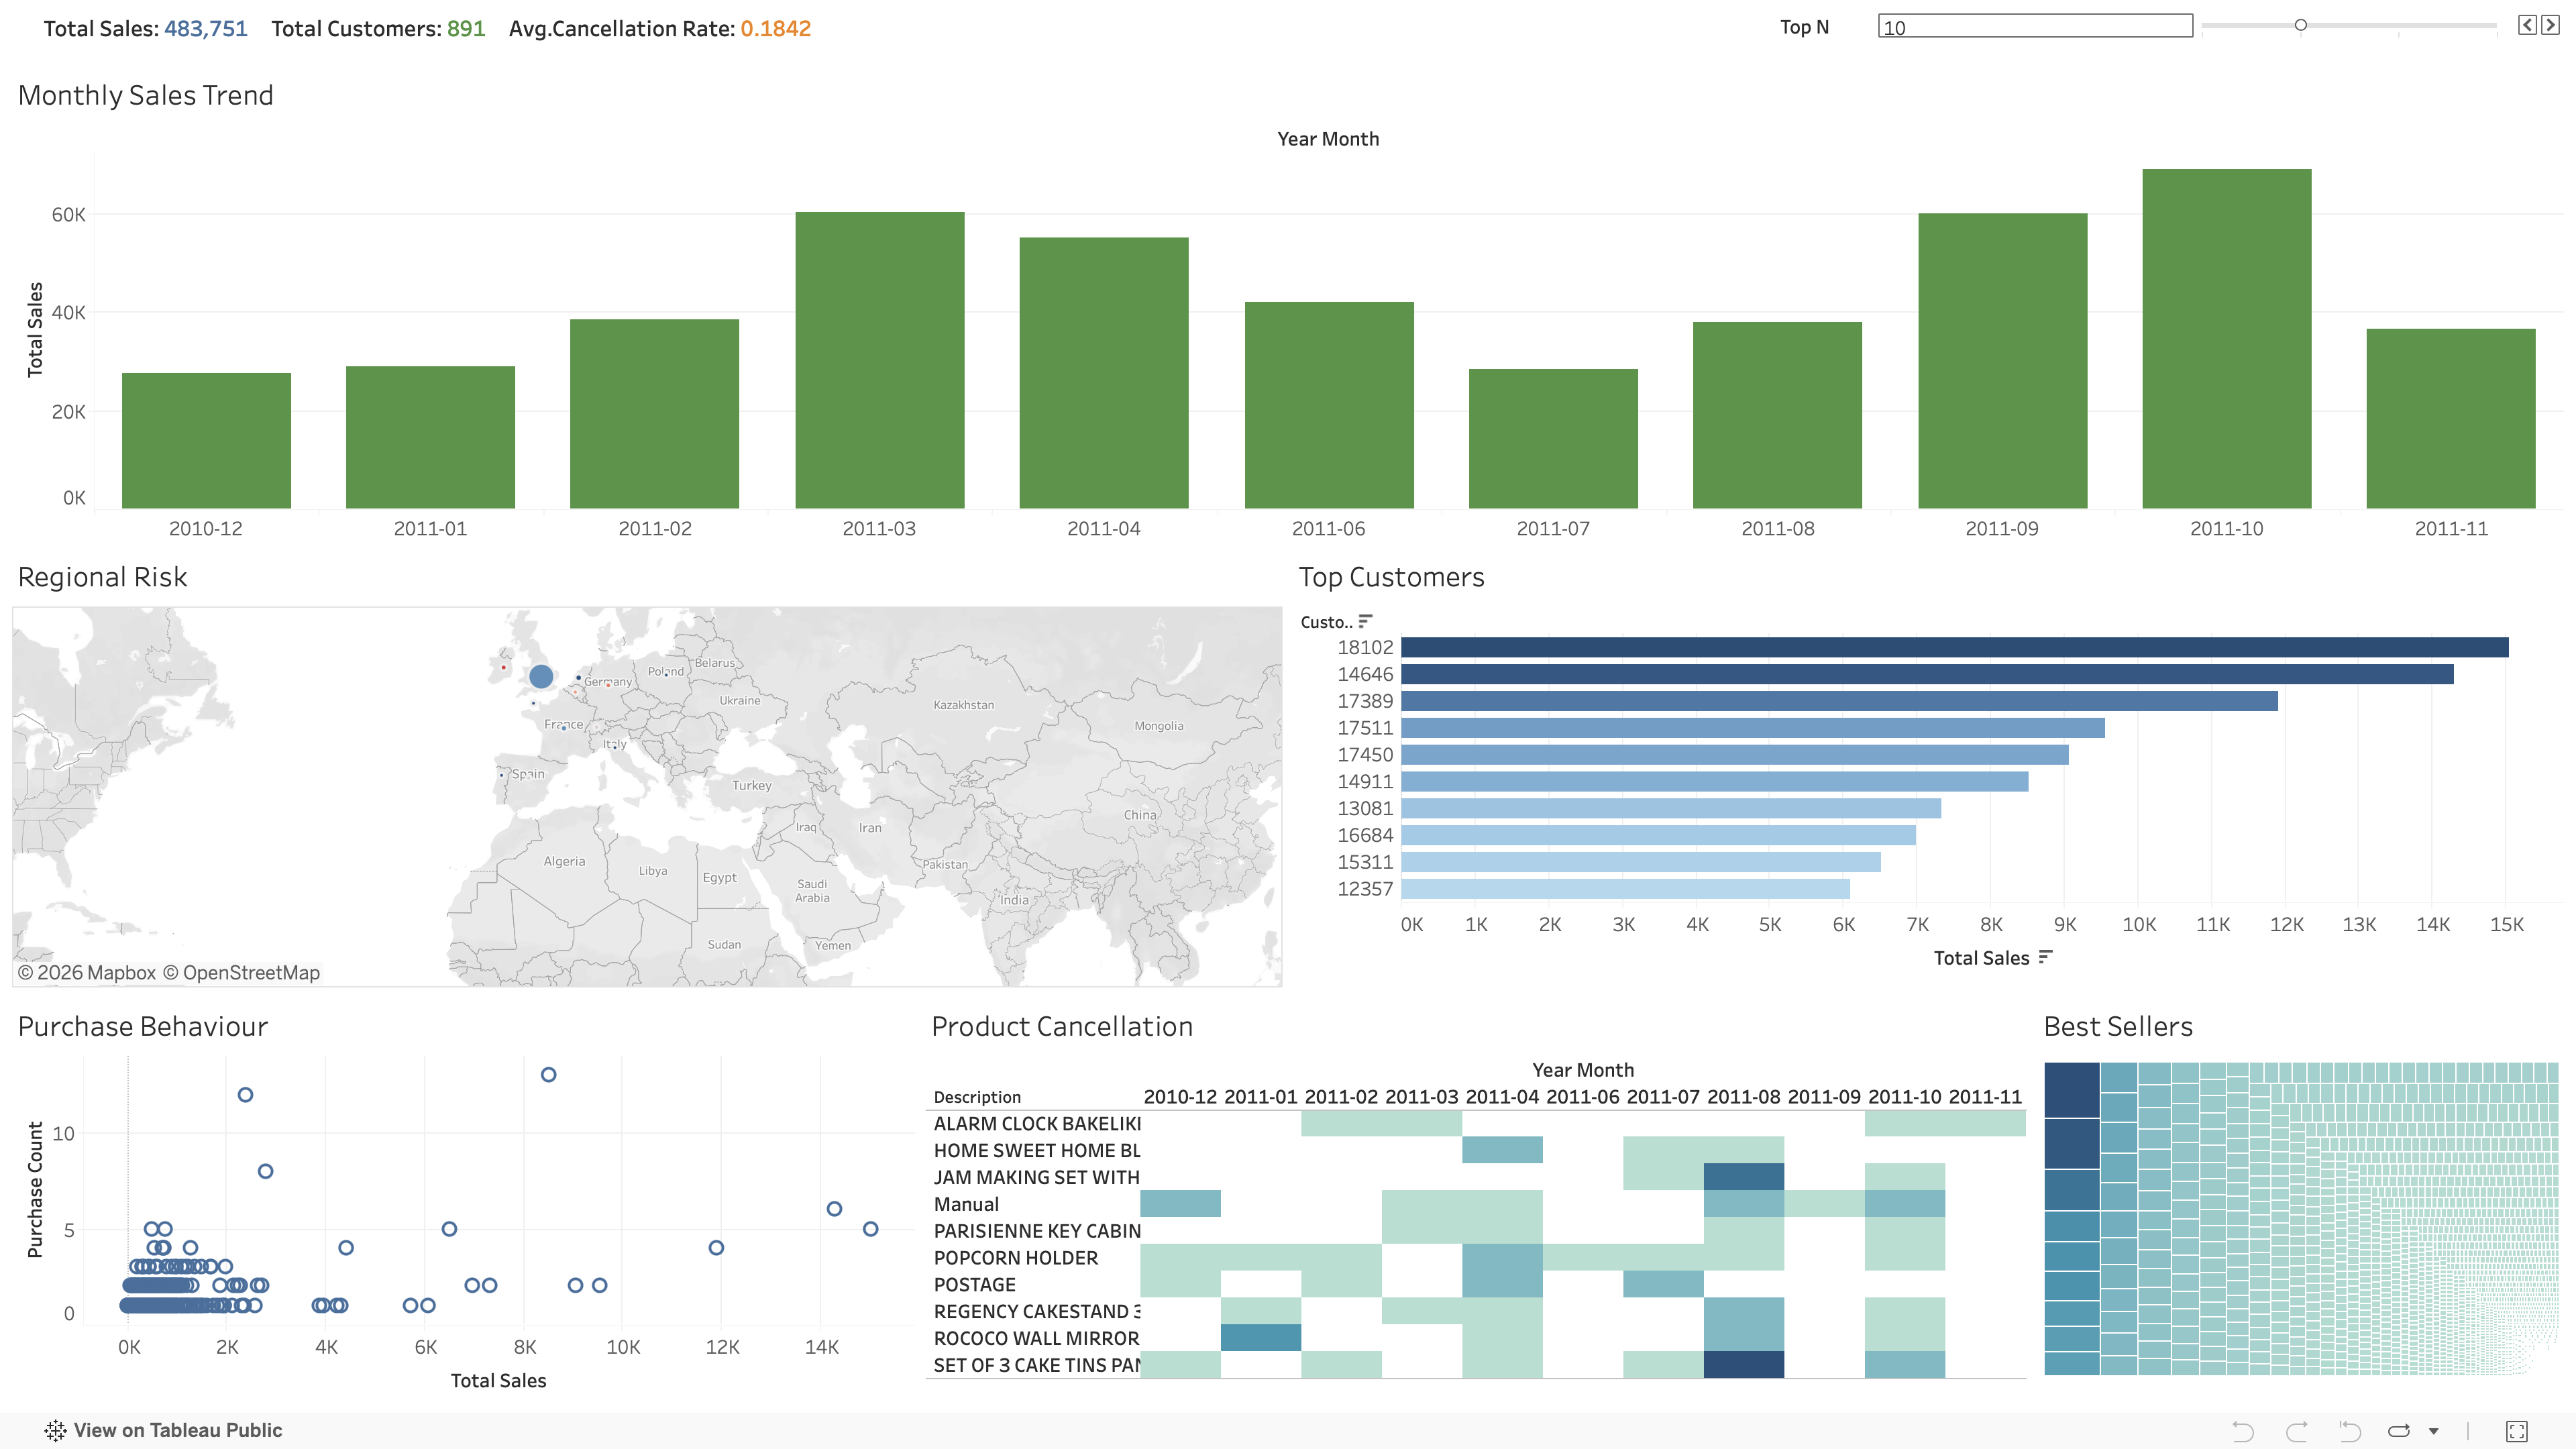

This screenshot's page, from the dashboard's own definition file:
{"tool":"tableau","page":{"name":"Dashboard 1","canvas":[1000,1000],"units":"permille","ordinal":0},"visuals":[{"type":"worksheet","title":"KPI_Sales","mark":"Automatic","box":[4.4,5.7,683.9,39.3]},{"type":"parameter","param":"[Parameters].[Parameter 1]","box":[688.4,5.7,307.2,39.3]},{"type":"worksheet","title":"Monthly Sales Trend","mark":"Automatic","rows":["TotalSales"],"cols":["YearMonth"],"box":[4.4,45,991.2,340.2]},{"type":"worksheet","title":"Regional Risk","mark":"Automatic","box":[4.4,385.2,495.5,316.8]},{"type":"worksheet","title":"Top Customers","mark":"Automatic","rows":["CustomerID"],"cols":["TotalSales"],"box":[500,385.2,495.6,316.8]},{"type":"worksheet","title":"Purchase Behaviour","mark":"Automatic","rows":["PurchaseCount"],"cols":["TotalSales"],"box":[4.4,702,353.3,292.3]},{"type":"worksheet","title":"Product Cancellation","mark":"Square","rows":["Description"],"cols":["YearMonth"],"box":[357.7,702,430.4,292.3]},{"type":"worksheet","title":"Best Sellers","mark":"Square","box":[788.1,702,207.4,292.3]}]}

Visuals, with their boxes on the dashboard's canvas, which has no fixed pixel size, in thousandths of its width and height (x1, y1, x2, y2). These are canvas units, not pixel positions in the 2576x1449 screenshot, which may show the page scaled, cropped or inside an application window:
"KPI_Sales" worksheet: 4, 6, 688, 45
parameter: 688, 6, 996, 45
"Monthly Sales Trend" worksheet: 4, 45, 996, 385
"Regional Risk" worksheet: 4, 385, 500, 702
"Top Customers" worksheet: 500, 385, 996, 702
"Purchase Behaviour" worksheet: 4, 702, 358, 994
"Product Cancellation" worksheet (Square marks): 358, 702, 788, 994
"Best Sellers" worksheet (Square marks): 788, 702, 996, 994
